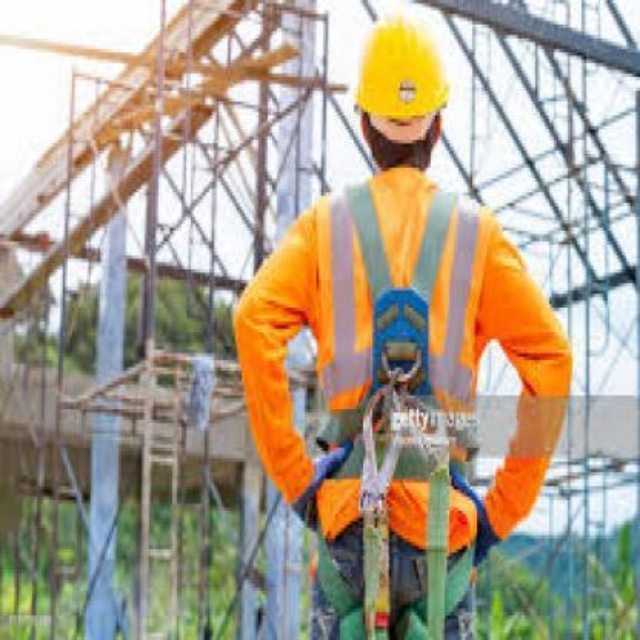Arnes_seguridad: (311, 186, 478, 640)
